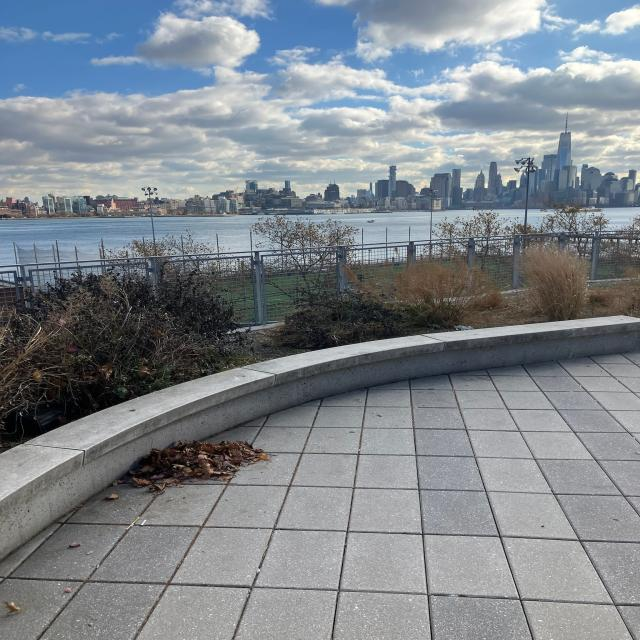WTC: (557, 111, 573, 166)
